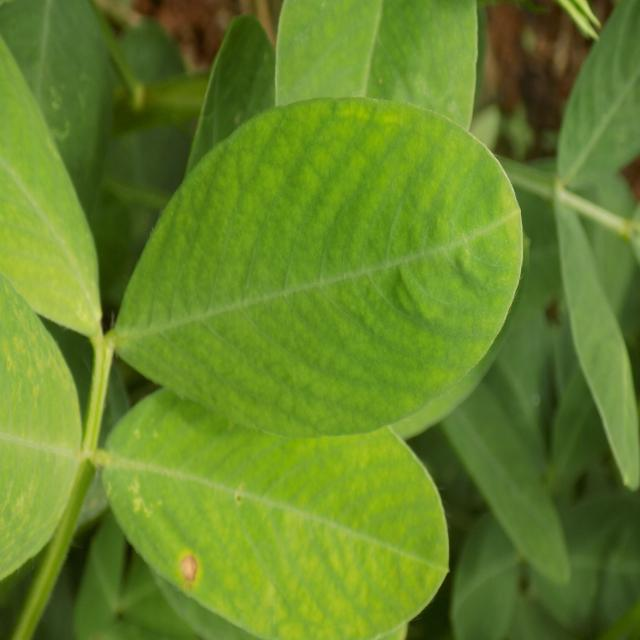Ground nut_healthy: (121, 102, 530, 436), (99, 379, 447, 640)
